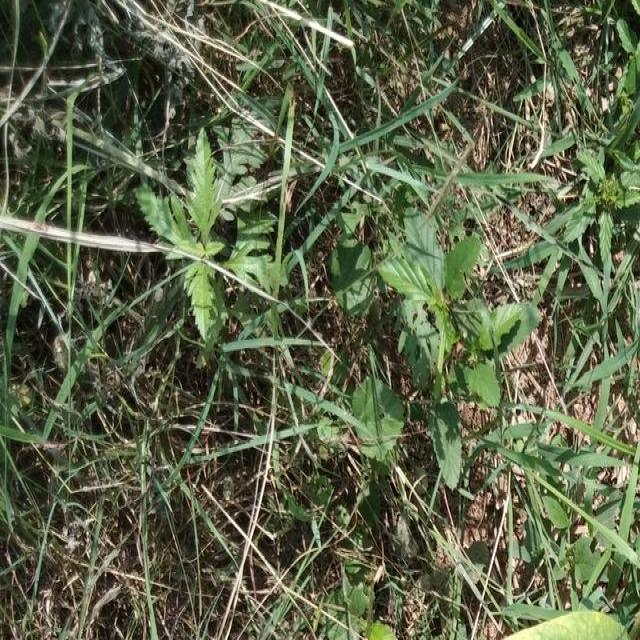weed: (511, 4, 640, 332), (140, 147, 280, 338), (410, 223, 512, 440)
